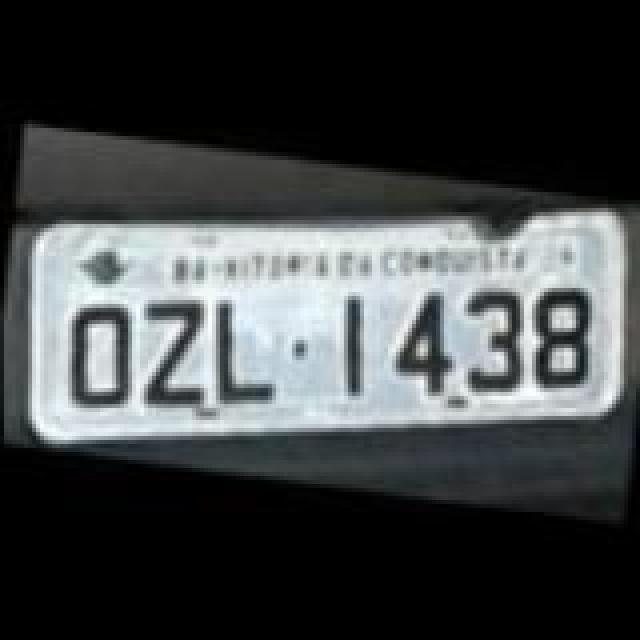1: (318, 290, 390, 402)
3: (446, 270, 534, 402)
4: (380, 282, 464, 398)
8: (520, 276, 604, 396)
L: (198, 294, 286, 410)
O: (56, 294, 140, 418)
Z: (126, 288, 214, 412)
